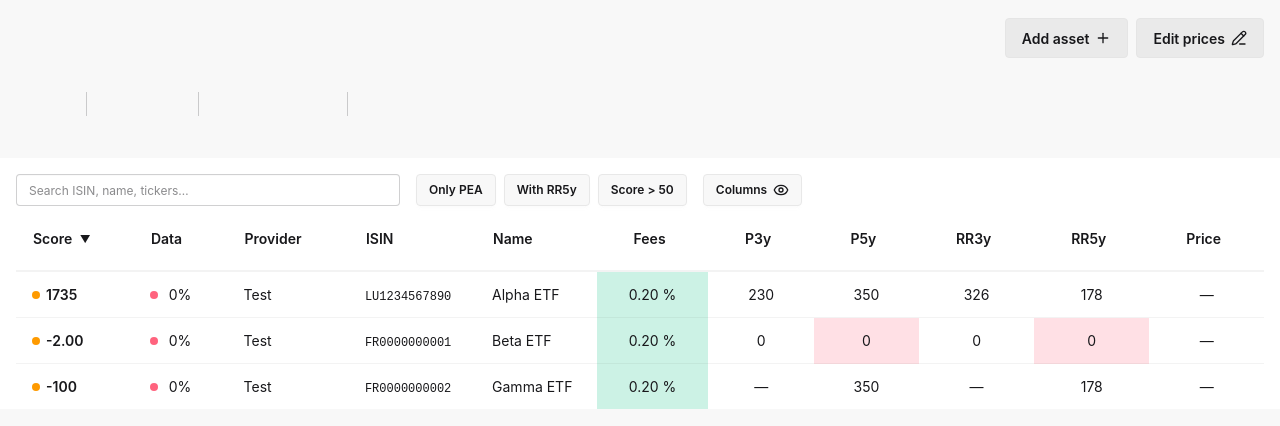
Test case: AssetTable - filter › Score > 50 button narrows to assets scoring above 50
The image size is (1280, 426).
Click the button with test id "filter-score-above-50" at (642,190), box top-left (598, 174), bottom-right (687, 206)
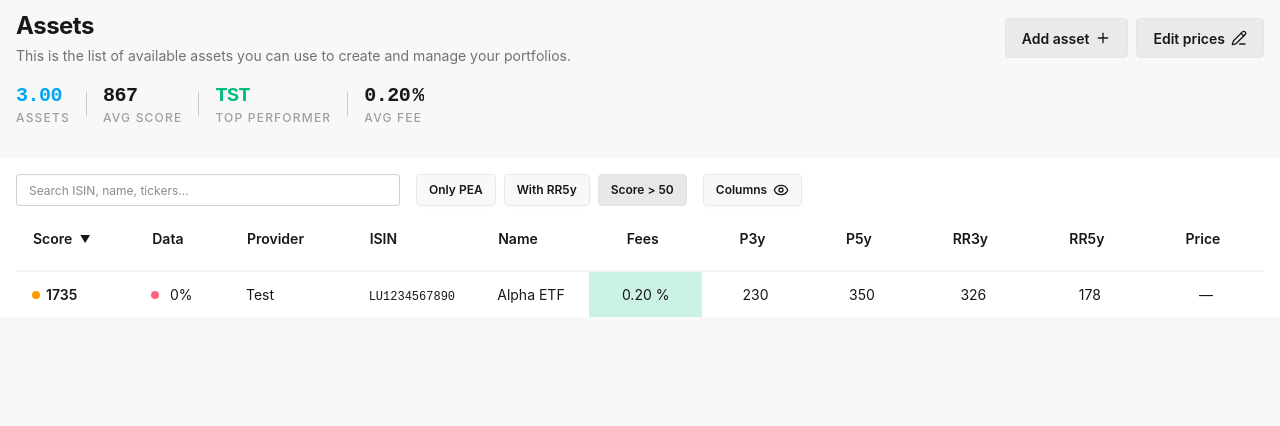
expect the row with test id "asset-row-LU1234567890" shows "Alpha ETF": met, box top-left (497, 286), bottom-right (565, 303)
expect the row with test id "asset-row-FR0000000001" is gone: met
expect the row with test id "asset-row-FR0000000002" is gone: met
